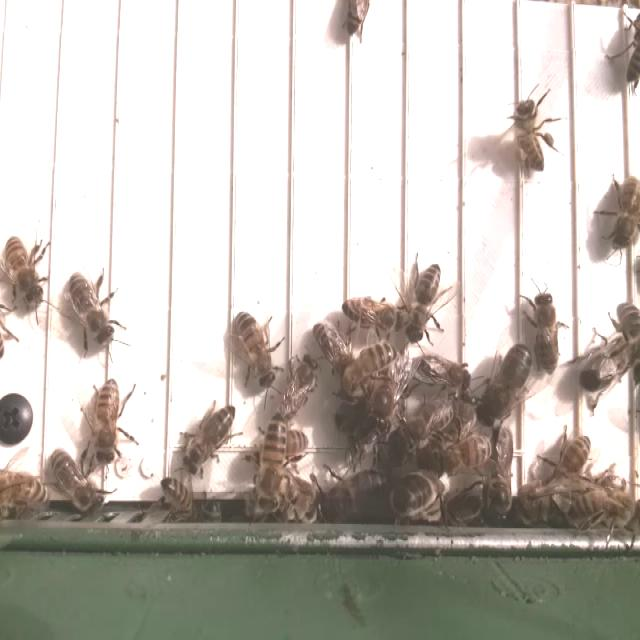Drone: (472, 339, 535, 431)
Worker: (182, 401, 236, 475), (230, 308, 276, 393), (67, 273, 116, 351), (403, 259, 444, 348), (4, 234, 46, 314), (259, 409, 288, 516), (513, 96, 550, 178), (93, 372, 122, 471), (339, 291, 404, 334), (531, 290, 562, 378), (610, 171, 640, 255)
